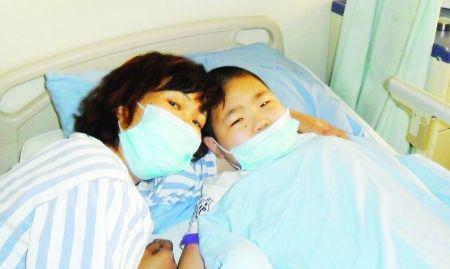OK: (116, 85, 206, 175)
WRONG: (218, 91, 292, 165)
